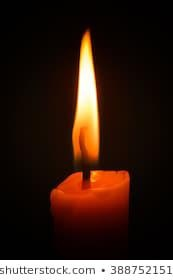fire: (72, 25, 100, 162)
